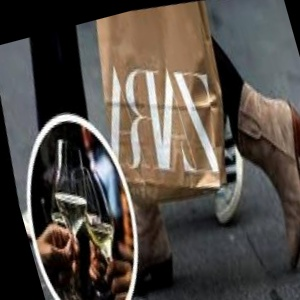zara: (160, 28, 288, 100)
